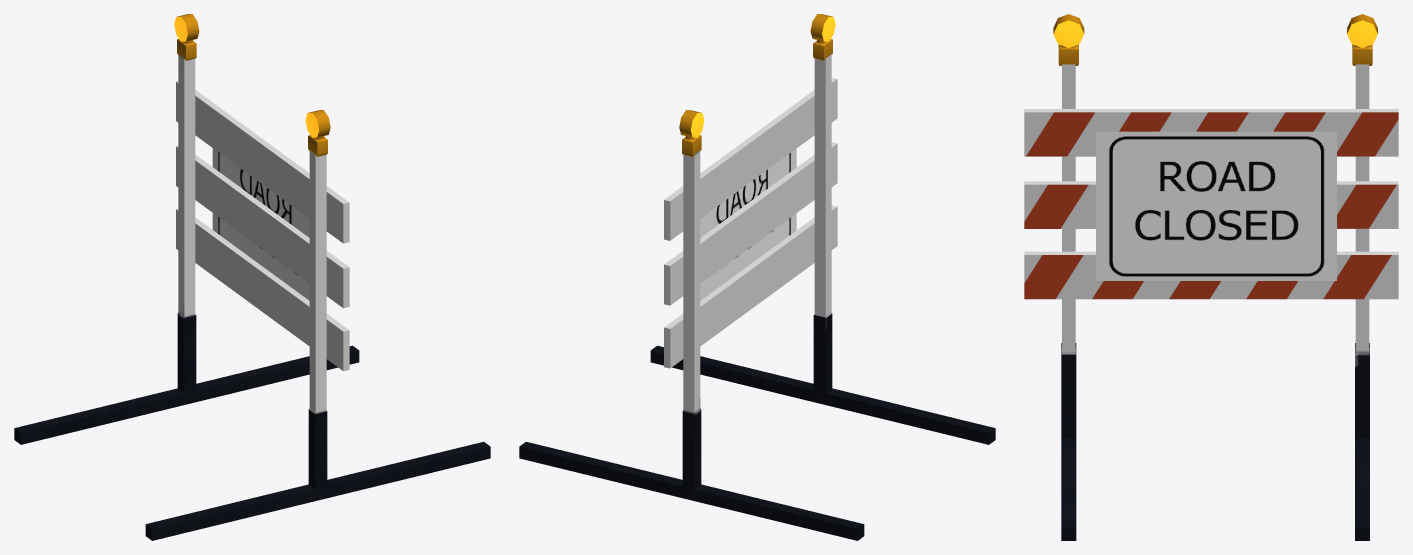
The model's file is road_block.glb.
3 renders of one model, left to right at view 1: azimuth 30°, elevation 25°; view 2: azimuth 150°, elevation 25°; view 3: azimuth 270°, elevation 25°, orthographic. The views are drawn at different scales.
Parts seen in each view (by area): view 1: road_closed_barricade; view 2: road_closed_barricade; view 3: road_closed_barricade.
Boxes of the visible parts, <box> form: road_closed_barricade: <box>14,14,490,540</box>; road_closed_barricade: <box>519,14,995,540</box>; road_closed_barricade: <box>1024,14,1398,540</box>.
Bounding box in the file's own units: 1.84 × 2 × 1.57.
1 material, 1 textured.
